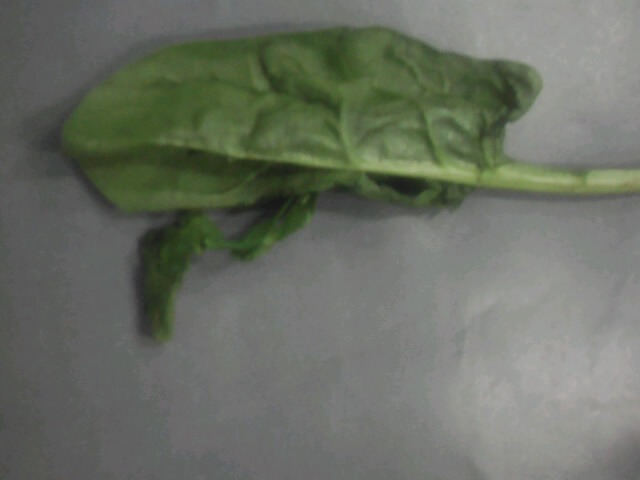yellow: (50, 16, 569, 344)
